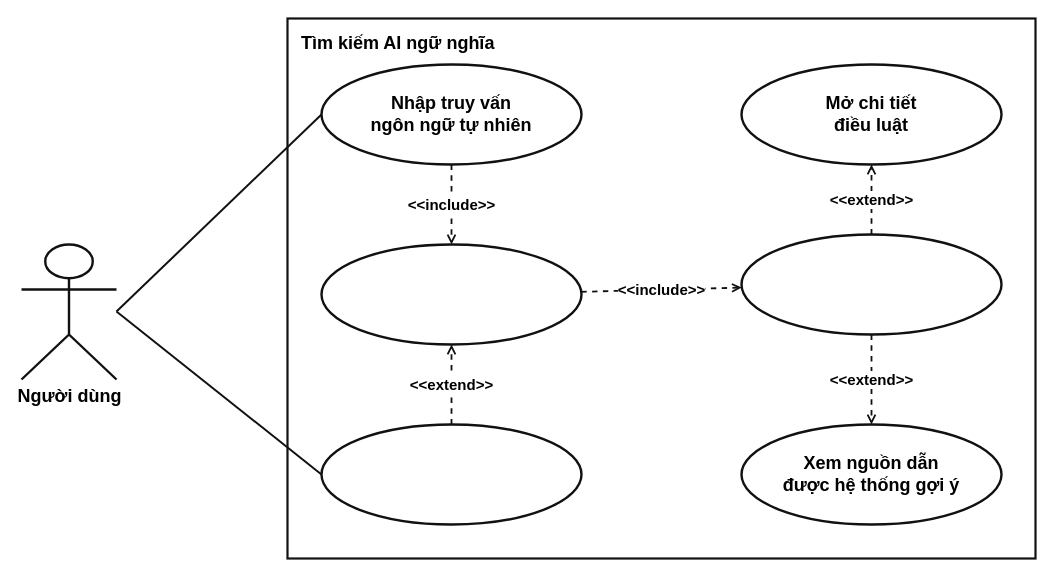
This 1054x577 diagram has some shape labels left out. The centre of each missing label's shape, as x and y in pixels:
Thực hiện tìm kiếm AI: [451,294]
Xem danh sách điều luật liên quan: [871,284]
Điều chỉnh từ khóa tìm kiếm: [451,474]
